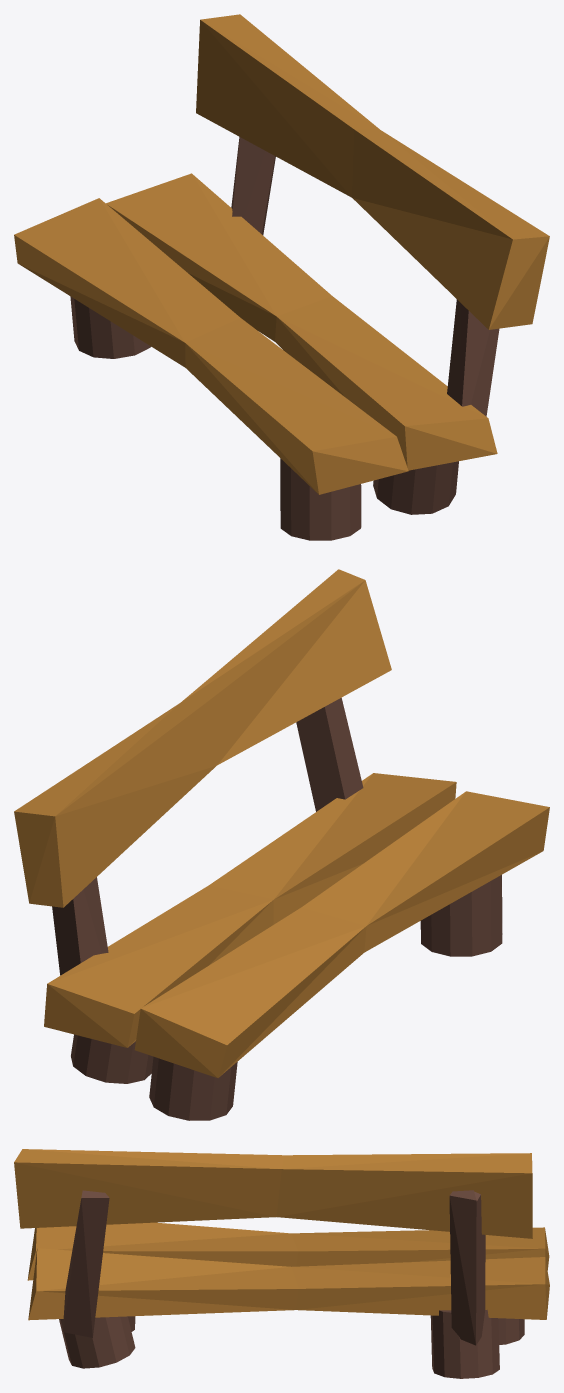
File: bank.glb
3 views of the same model, one above another, from view 1: azimuth 30°, elevation 25°; view 2: azimuth 150°, elevation 25°; view 3: azimuth 270°, elevation 25° (orthographic). The views are drawn at different scales.
Parts seen in each view (by area): view 1: node_MeshObject-400393664-PolyPaper20; view 2: node_MeshObject-400393664-PolyPaper20; view 3: node_MeshObject-400393664-PolyPaper20.
Part boxes in pixels (x1=…): node_MeshObject-400393664-PolyPaper20: x1=14, y1=14, x2=549, y2=540; node_MeshObject-400393664-PolyPaper20: x1=14, y1=569, x2=549, y2=1120; node_MeshObject-400393664-PolyPaper20: x1=14, y1=1149, x2=549, y2=1378.
Size of the model in its own units: 1.83 by 2.12 by 4.38.
